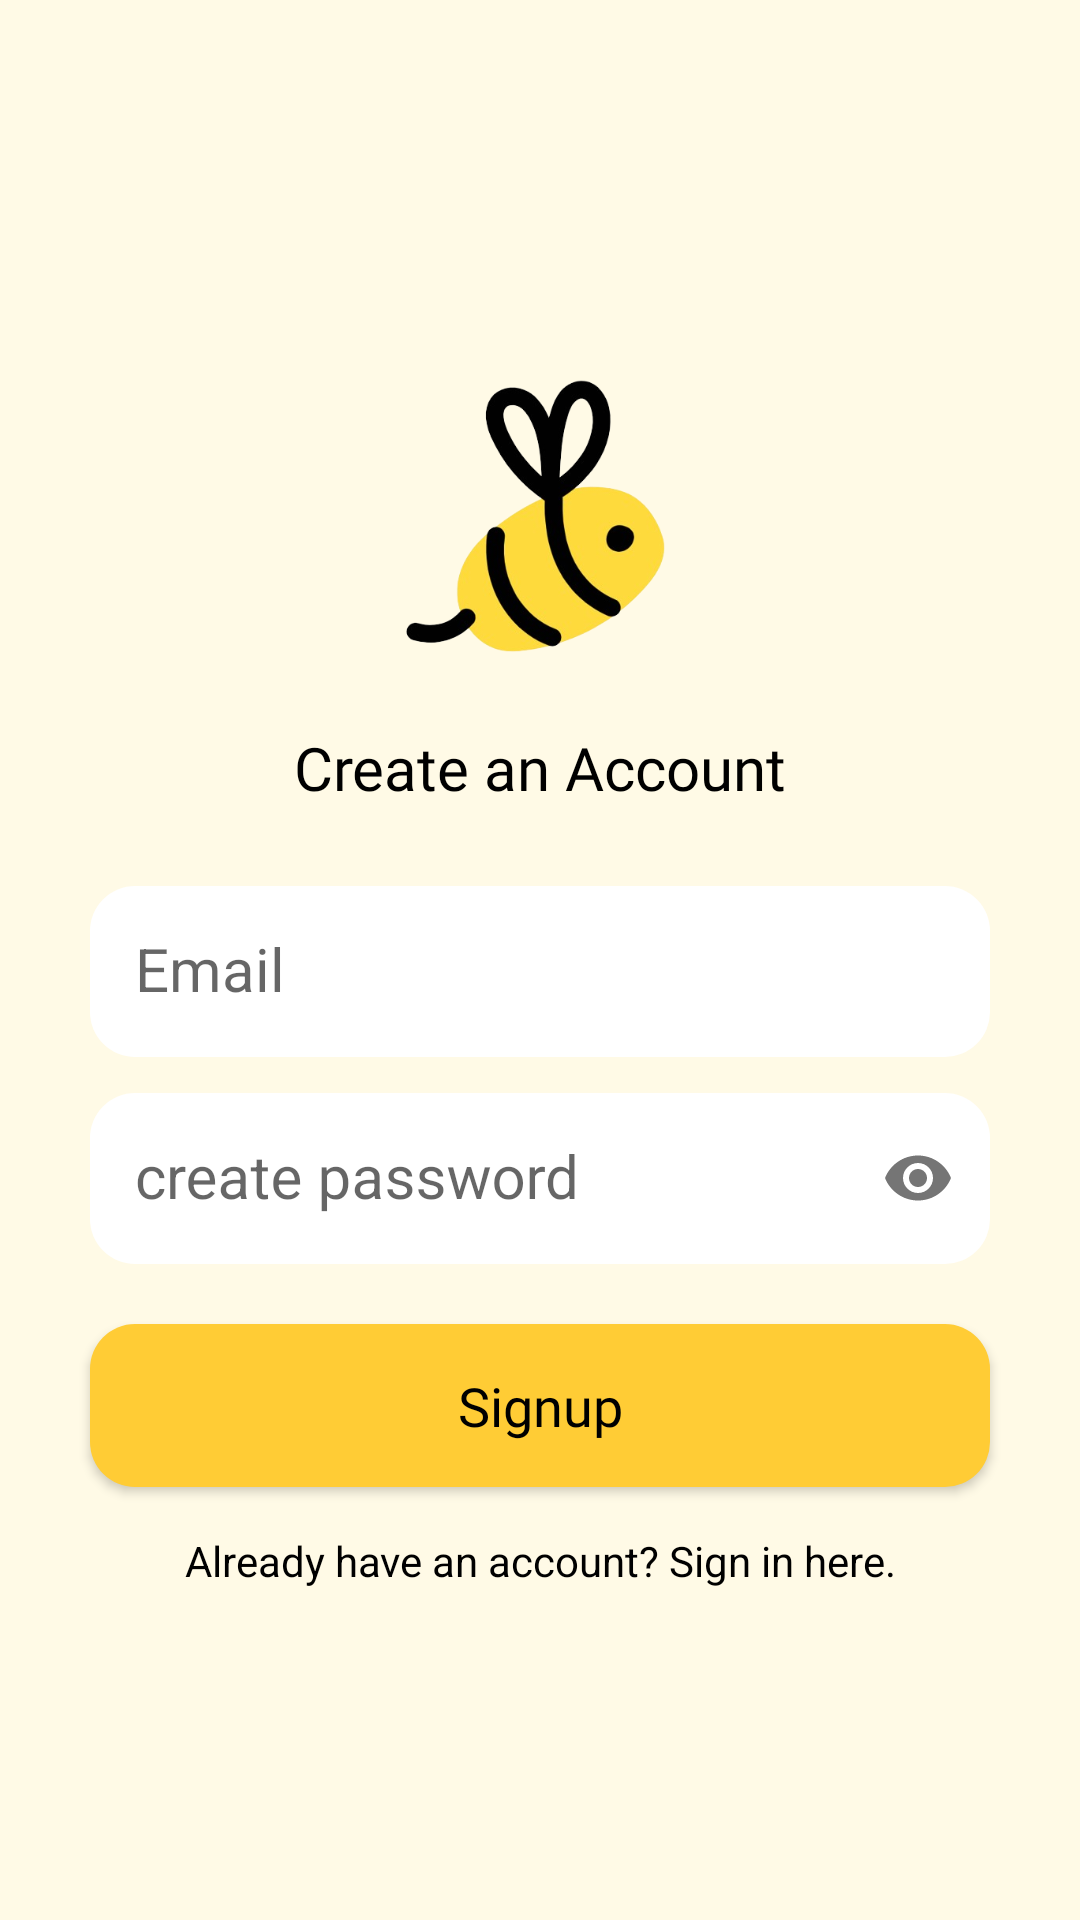

Locate icon controls on the screen. Image size 1080px x 1920px, boxes as (x1, y1, x2, y2).
budgethive: (406, 380, 665, 652)
